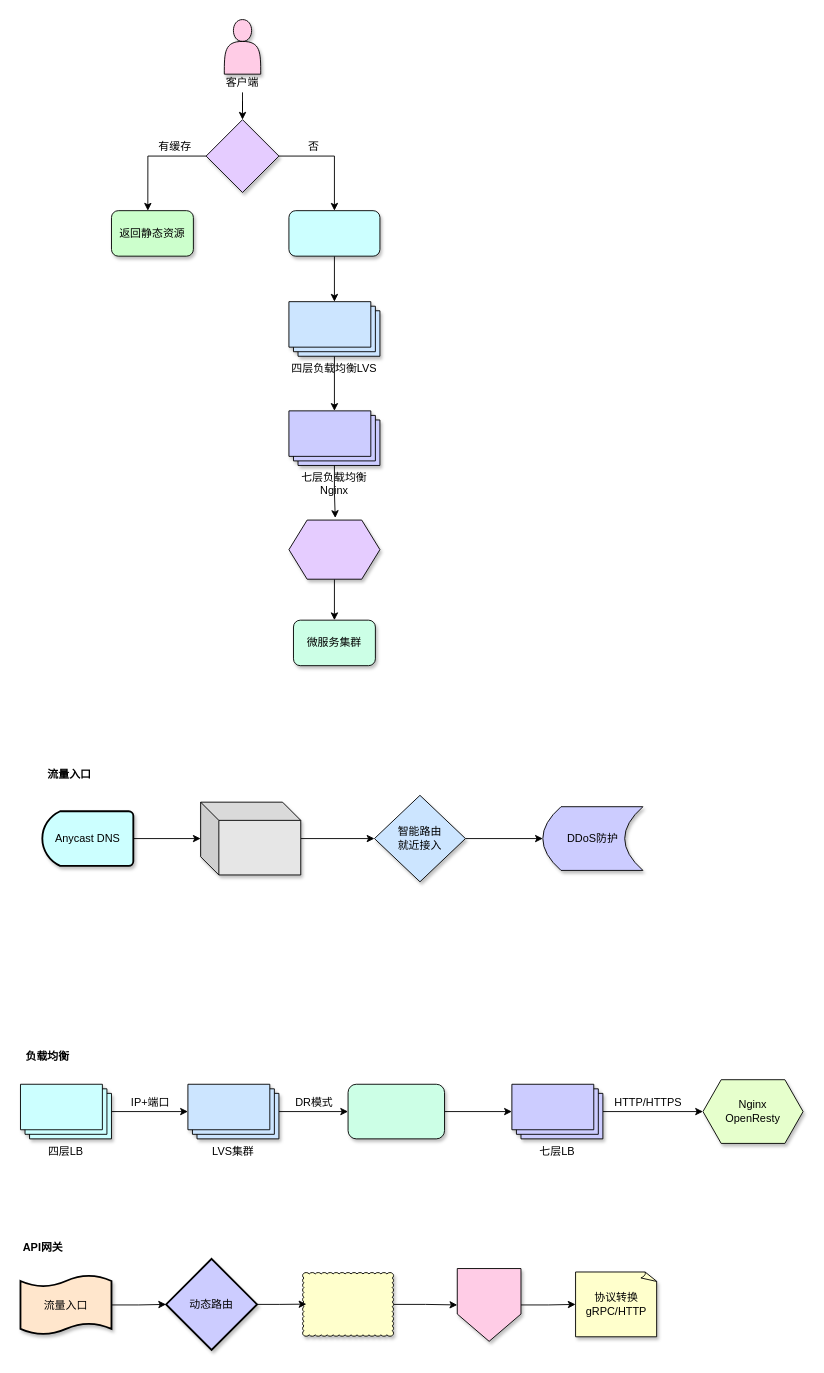
Image size: 824x1373. Some labels were removed from this diagram. Here are the shapes that lost their labels. From the top down, the centre of each, then its label:
the point at 243,157: CDN 边缘计算
the point at 334,234: 全局负载均衡 GSLB
the point at 334,551: API 网关集群
the point at 251,839: CDN 边缘节点
the point at 397,1112: Keepalived 高可用
the point at 348,1305: 鉴权 OAuth2.0
the point at 489,1306: 限流熔断
